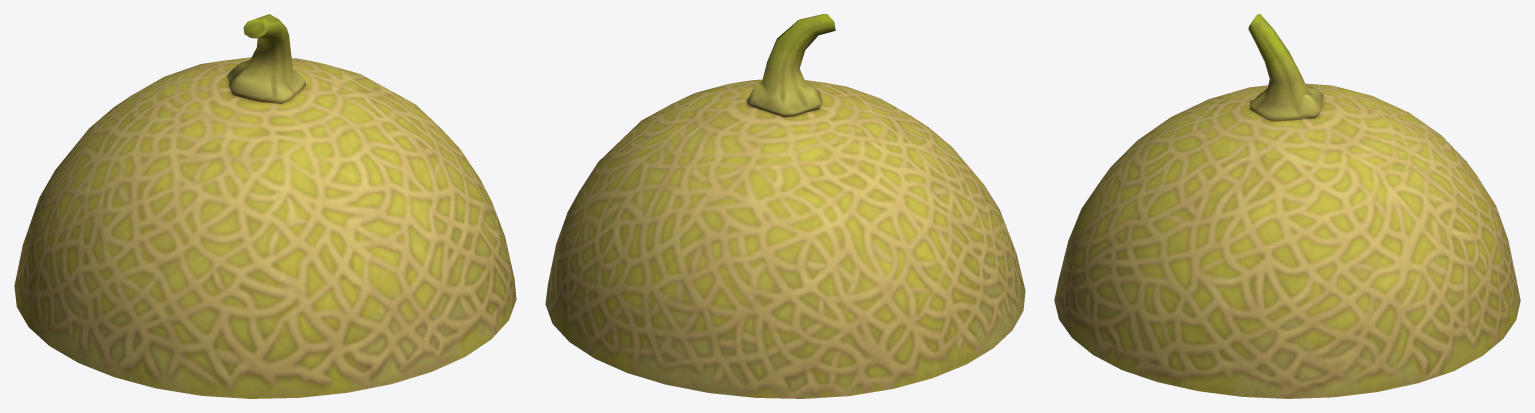
File: SM_CantaloupeCutTop.fbx
3 views of the same model, side by side, from view 1: azimuth 30°, elevation 25°; view 2: azimuth 150°, elevation 25°; view 3: azimuth 270°, elevation 25° (orthographic). The views are drawn at different scales.
Visible parts, largest first — view 1: SM_CantaloupeCutTop; view 2: SM_CantaloupeCutTop; view 3: SM_CantaloupeCutTop.
Boxes of the visible parts, box(x1,y1,x2,y2) form: SM_CantaloupeCutTop: box(14, 14, 516, 398); SM_CantaloupeCutTop: box(545, 14, 1025, 398); SM_CantaloupeCutTop: box(1054, 14, 1520, 398).
Bounding box in the file's own units: 26.71 × 17.18 × 26.59.
